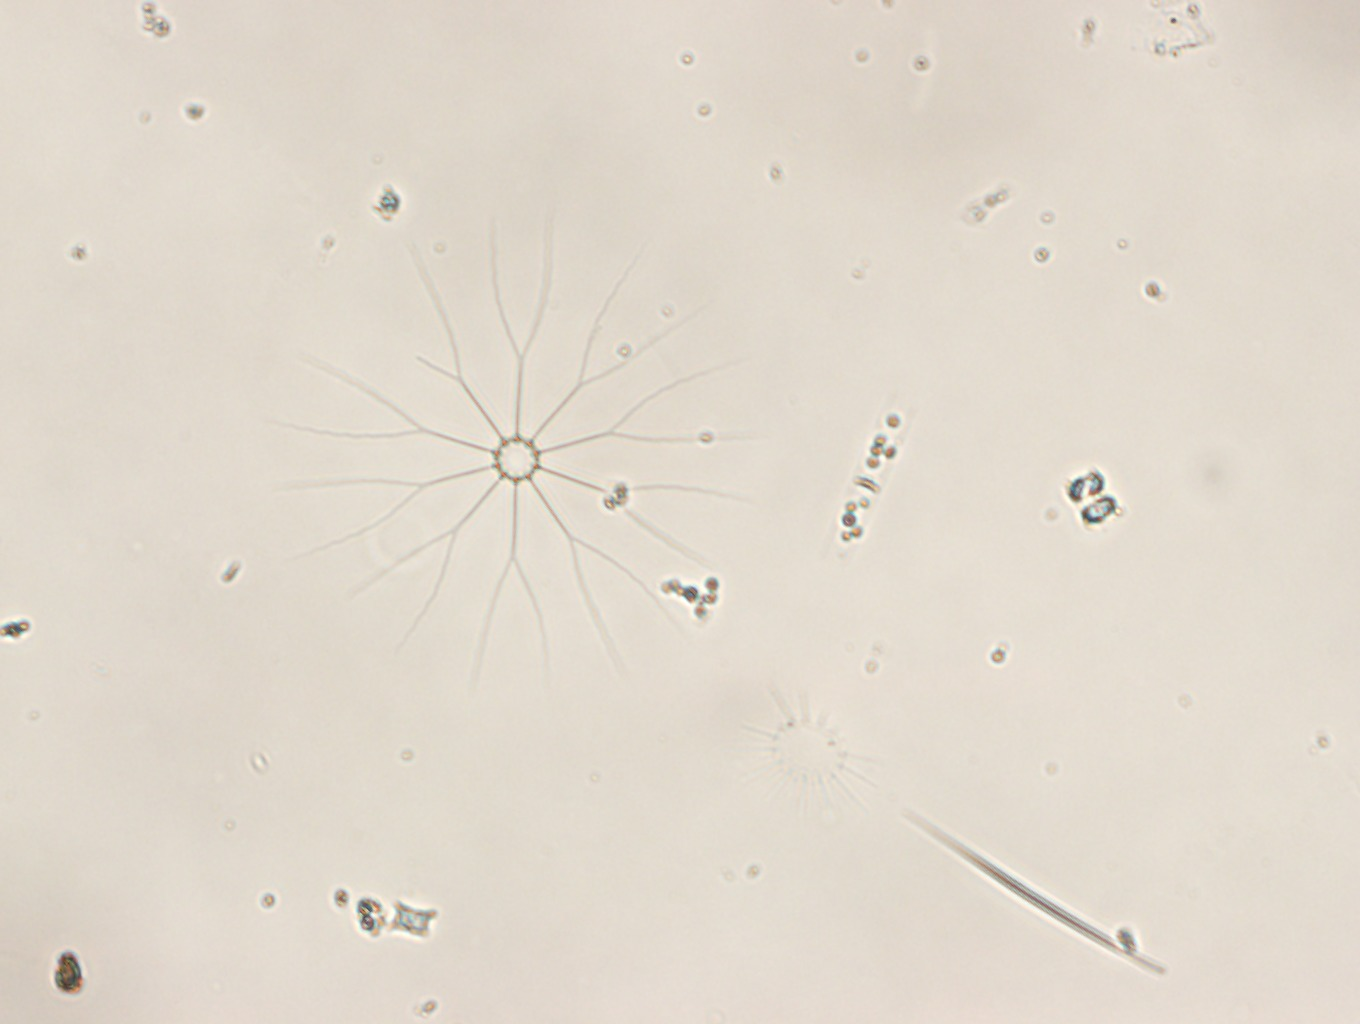bacteriastrum: (278, 218, 764, 673)
